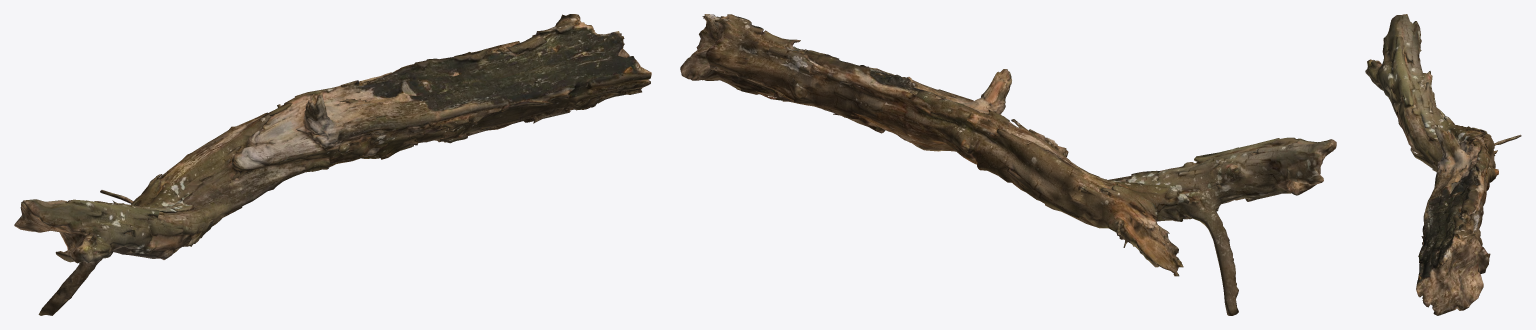
The model's file is Log_b.glb.
3 views of the same model, side by side, from view 1: azimuth 30°, elevation 25°; view 2: azimuth 150°, elevation 25°; view 3: azimuth 270°, elevation 25° (orthographic). The views are drawn at different scales.
Visible parts, largest first — view 1: dead_tree_trunk_02; view 2: dead_tree_trunk_02; view 3: dead_tree_trunk_02.
Part boxes in pixels (<box>): dead_tree_trunk_02: <box>14,14,651,315</box>; dead_tree_trunk_02: <box>680,14,1336,315</box>; dead_tree_trunk_02: <box>1365,14,1521,315</box>.
Size of the model in its own units: 4.05 by 1.05 by 1.05.
1 material, 1 textured.
